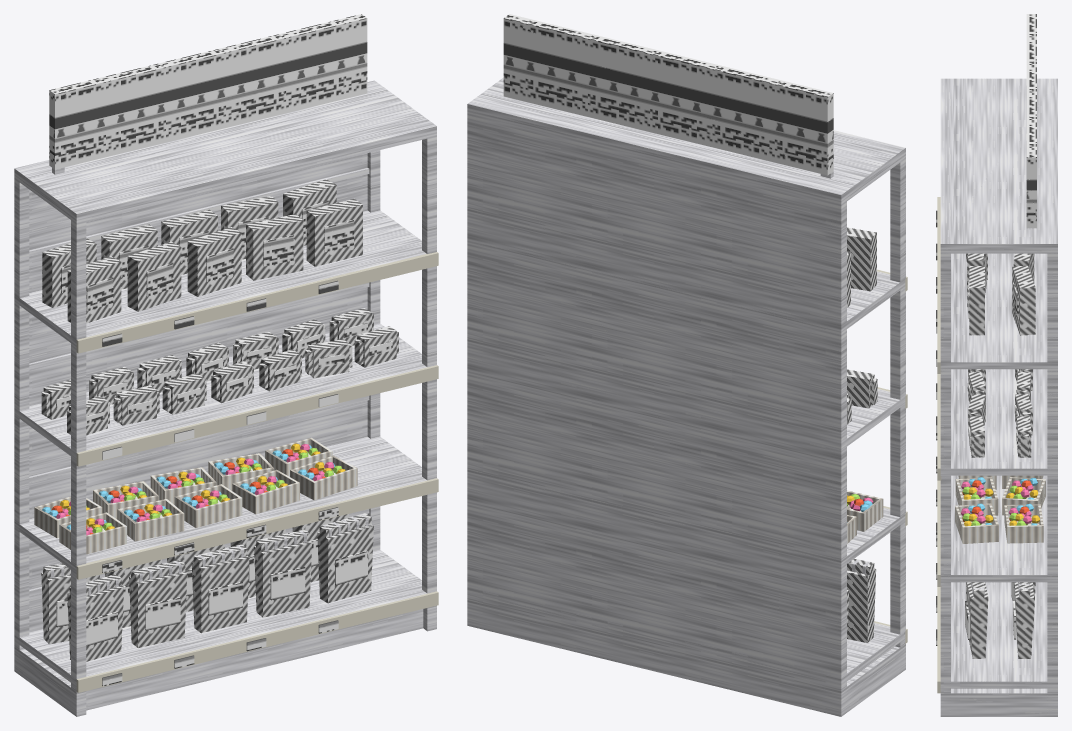
3 renders of one model, left to right at view 1: azimuth 30°, elevation 25°; view 2: azimuth 150°, elevation 25°; view 3: azimuth 270°, elevation 25°, orthographic. The views are drawn at different scales.
Parts seen in each view (by area): view 1: metallo_003, metallo_001, stampa_a_007, metallo_000, liscio_005, metallo_004, metallo_002, stampa_b_030, stampa_b_018, stampa_b_024, stampa_b_036, stampa_b_141 (+47 smaller); view 2: metallo_001, stampa_a_007, metallo_003, metallo_000, stampa_b_012, metallo_004, stampa_b_129, stampa_b_101, cartone_045; view 3: metallo_003, metallo_000, metallo_004, stampa_a_007, metallo_001, liscio_005, stampa_b_036, stampa_b_143, stampa_b_033, cartone_093, stampa_b_145, cartone_087 (+10 smaller).
Boxes of the visible parts, x1,y1,x2,y2 form: metallo_003: (14, 82, 436, 686); metallo_001: (14, 80, 376, 665); stampa_a_007: (49, 14, 367, 668); metallo_000: (14, 80, 436, 716); liscio_005: (76, 252, 438, 692); metallo_004: (19, 609, 423, 713); metallo_002: (29, 168, 369, 595); stampa_b_030: (254, 529, 311, 617); stampa_b_018: (129, 560, 187, 647); stampa_b_024: (191, 544, 249, 633); stampa_b_036: (317, 513, 373, 603); stampa_b_141: (246, 214, 303, 280); metallo_001: (467, 104, 843, 715); stampa_a_007: (503, 14, 833, 175); metallo_003: (467, 77, 905, 685); metallo_000: (467, 100, 905, 716); stampa_b_012: (847, 559, 876, 642); metallo_004: (844, 646, 901, 714); stampa_b_129: (847, 227, 876, 291); stampa_b_101: (847, 369, 877, 408); cartone_045: (847, 490, 883, 531); metallo_003: (940, 78, 1057, 688); metallo_000: (940, 78, 1057, 716); metallo_004: (949, 688, 1052, 716); stampa_a_007: (936, 14, 1036, 579); metallo_001: (1052, 79, 1057, 716); liscio_005: (937, 197, 941, 693); stampa_b_036: (966, 582, 988, 658); stampa_b_143: (1012, 265, 1035, 335); stampa_b_033: (1014, 582, 1033, 658); cartone_093: (955, 503, 998, 543); stampa_b_145: (969, 266, 984, 335); cartone_087: (1004, 504, 1043, 543).
Size of the model in its own units: 1.5 by 2.32 by 0.467.
Materials: 22 (16 with a texture image).
